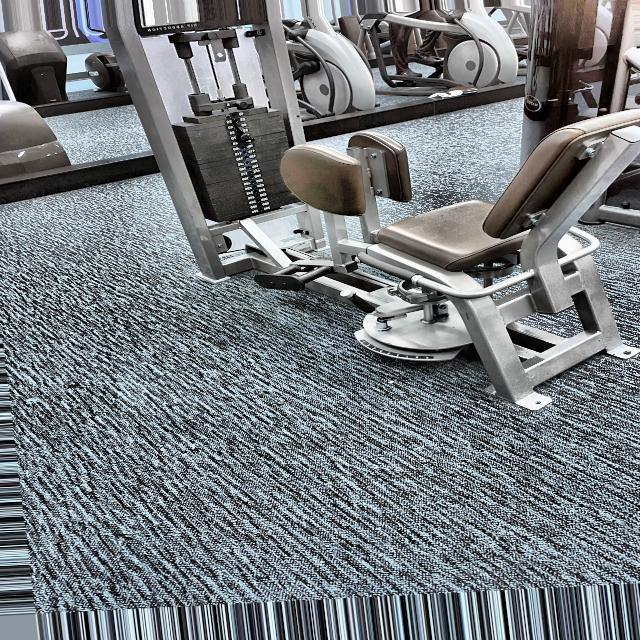hip_adduction_machine: (290, 94, 640, 426), (273, 114, 432, 327), (143, 21, 206, 36)
